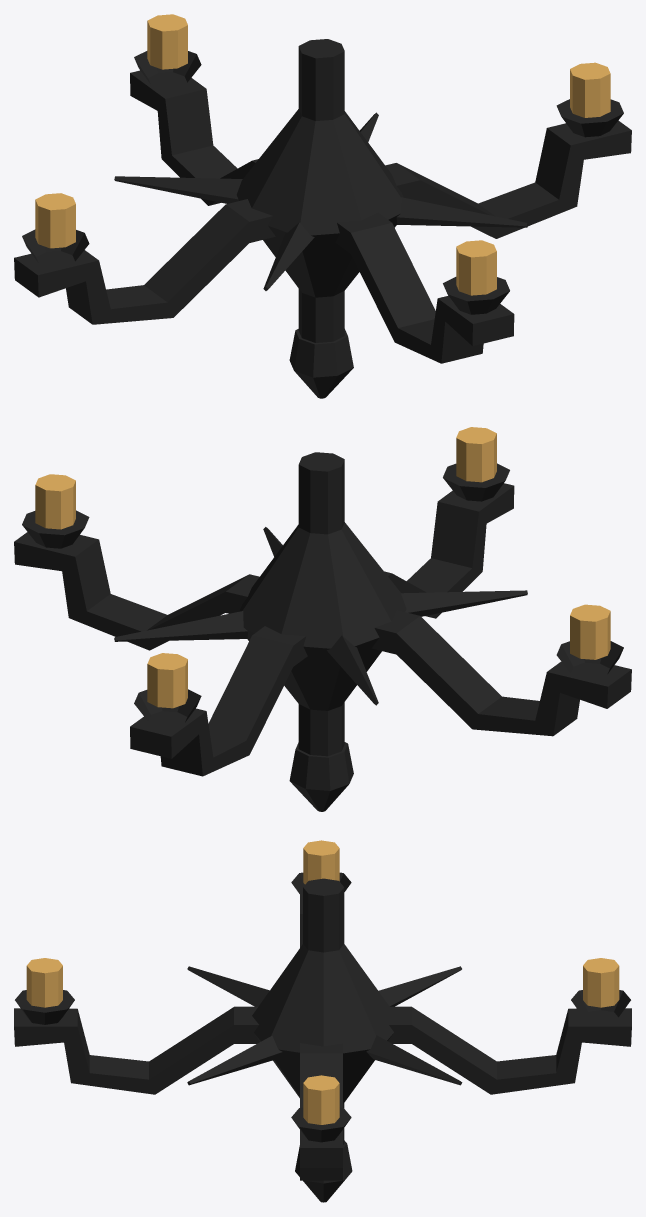
Rendered from Kronleuchter.fbx.
3 views of the same model, one above another, from view 1: azimuth 30°, elevation 25°; view 2: azimuth 150°, elevation 25°; view 3: azimuth 270°, elevation 25° (orthographic). The views are drawn at different scales.
Parts seen in each view (by area): view 1: Cube.002; view 2: Cube.002; view 3: Cube.002.
Part boxes in pixels (left/top/right/bottom): Cube.002: left=14, top=14, right=631, bottom=398; Cube.002: left=14, top=427, right=631, bottom=811; Cube.002: left=14, top=840, right=631, bottom=1202.
Bounding box in the file's own units: 321 × 180 × 321.
